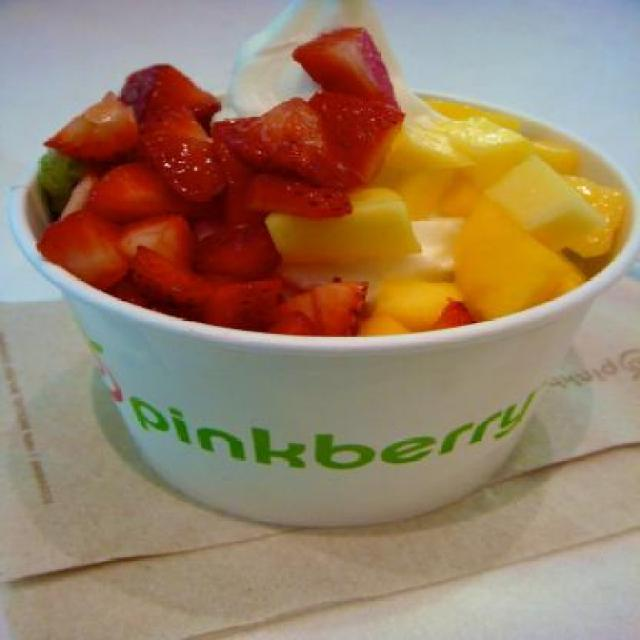Mango: (264, 98, 624, 336), (469, 129, 608, 297)
